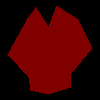abbigliamento_uomo: (7, 5, 92, 94)
